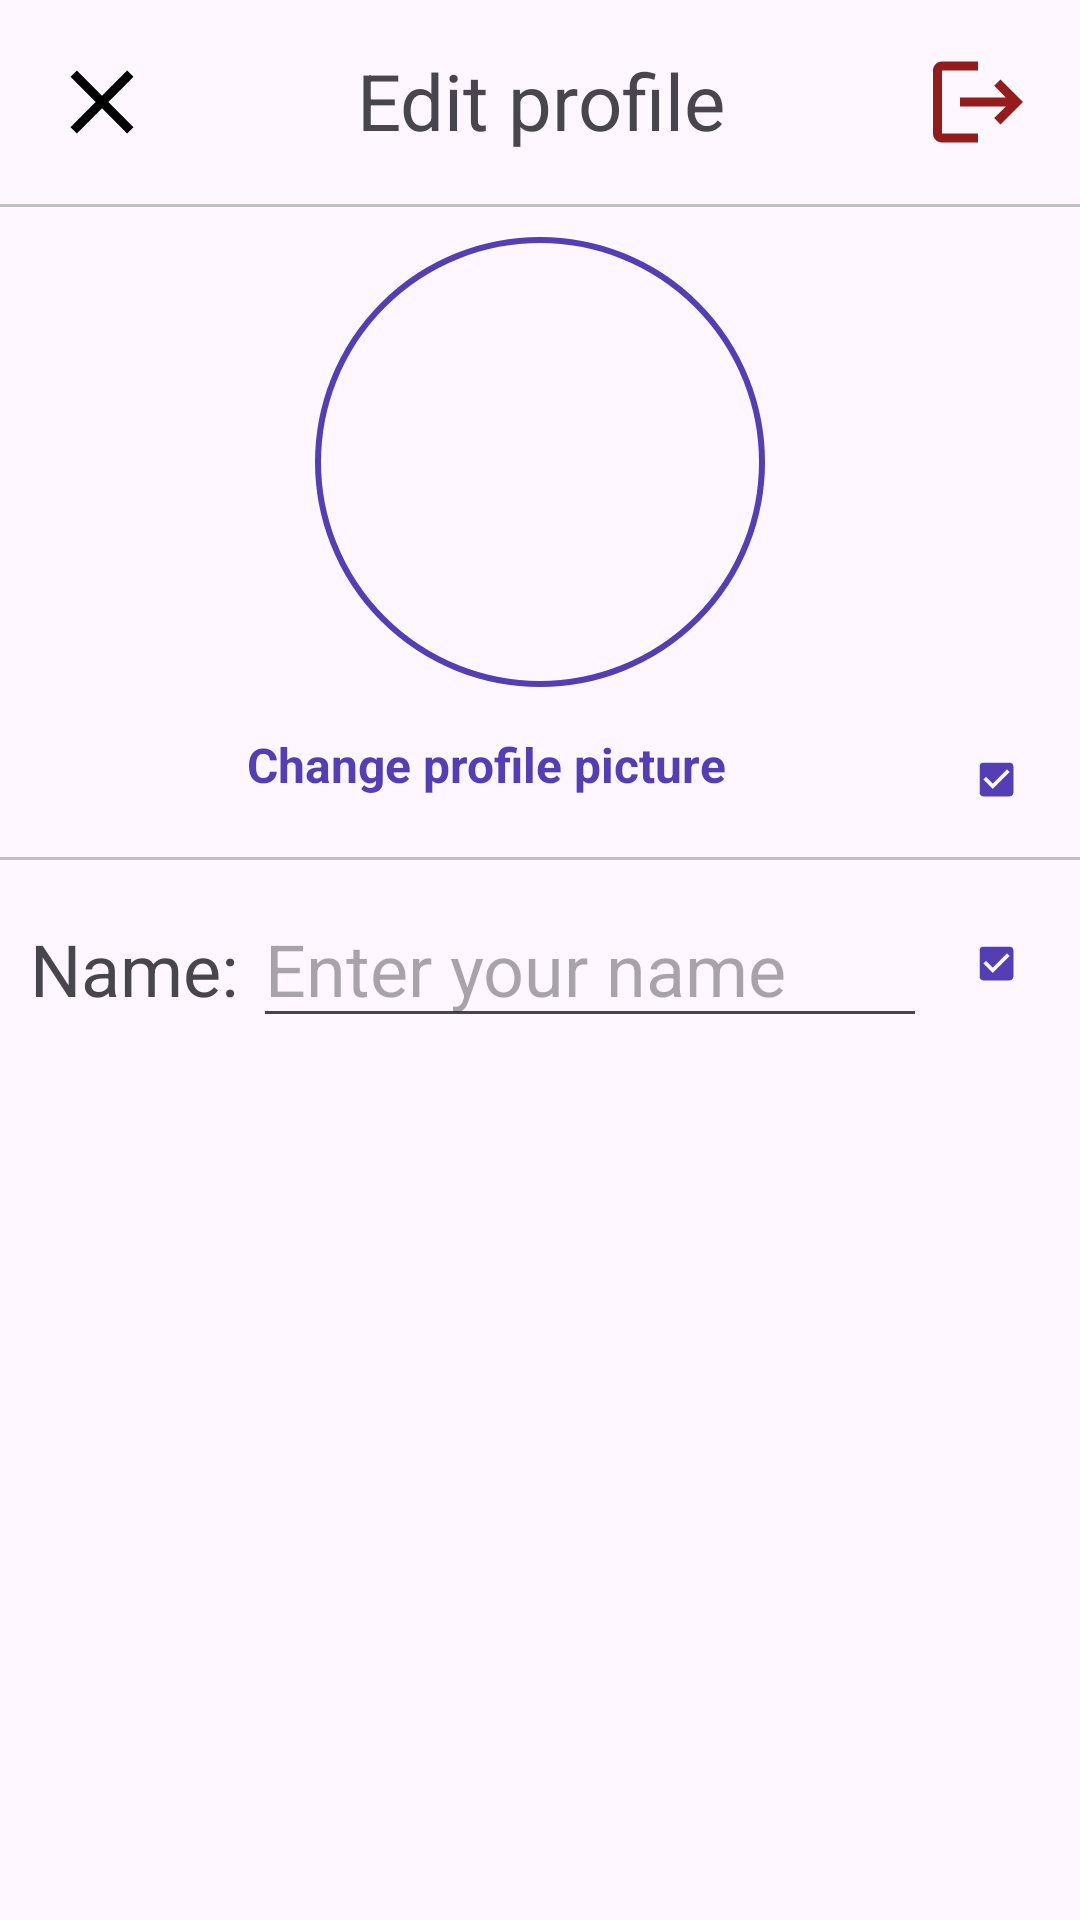

Icons on this 1080x1920 Android screen, each with the point to tap as (x,y):
check: (996,779), (996,963)
close: (102,102)
